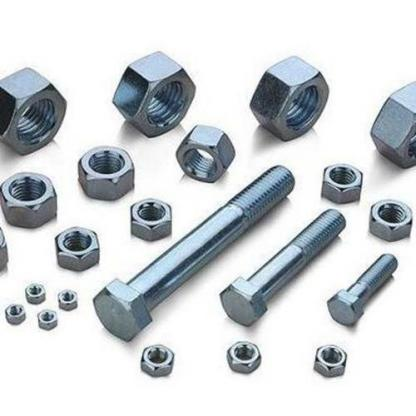FOD: (92, 163, 296, 345), (218, 206, 348, 326), (106, 47, 198, 140), (247, 55, 331, 145), (0, 67, 68, 158), (325, 250, 401, 327), (368, 79, 415, 169), (174, 121, 236, 184), (0, 167, 62, 230), (75, 141, 138, 203), (53, 224, 101, 274), (367, 196, 415, 242), (128, 195, 173, 242), (319, 161, 365, 204), (223, 338, 264, 377), (312, 344, 349, 380), (139, 343, 175, 379), (2, 302, 26, 328), (56, 287, 80, 313), (36, 309, 60, 331), (22, 281, 45, 303)
